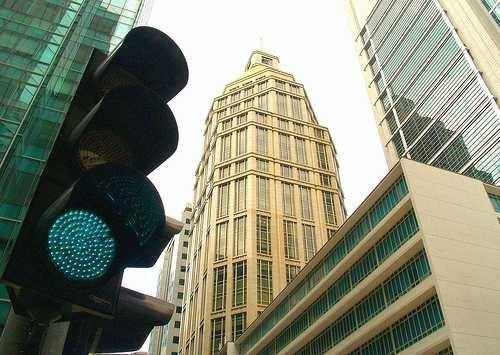green: (35, 29, 184, 324), (38, 178, 142, 300)
